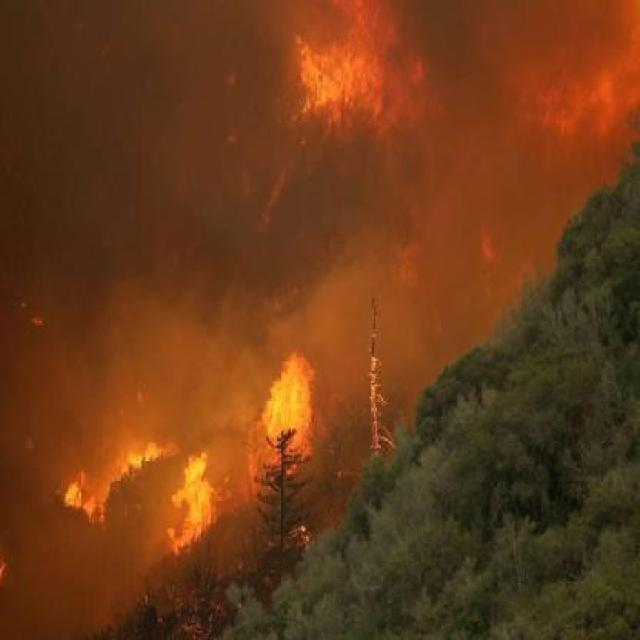Fire: (52, 395, 216, 578), (239, 324, 325, 508), (279, 31, 383, 119)
